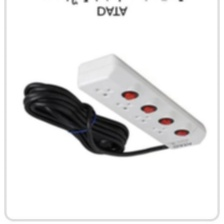three_eye_plug: (73, 50, 208, 153)
